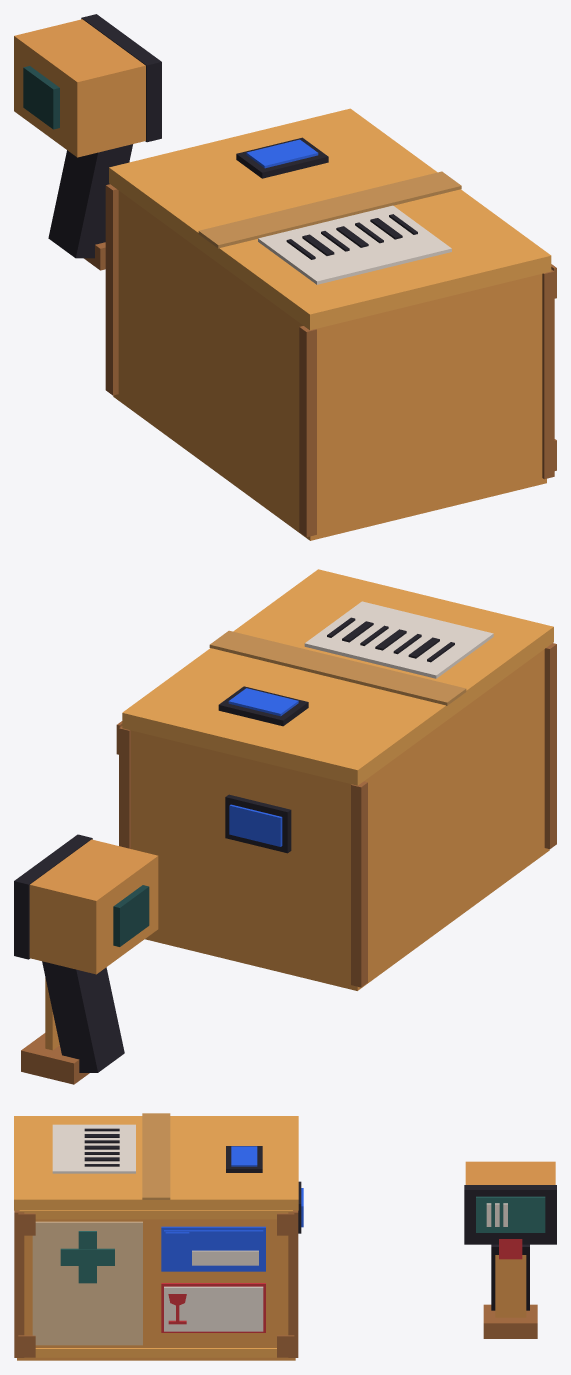
File: prop.package-courier.lod2.glb
3 views of the same model, one above another, from view 1: azimuth 30°, elevation 25°; view 2: azimuth 150°, elevation 25°; view 3: azimuth 270°, elevation 25° (orthographic). The views are drawn at different scales.
Size of the model in its own units: 0.547 by 0.481 by 1.4.
